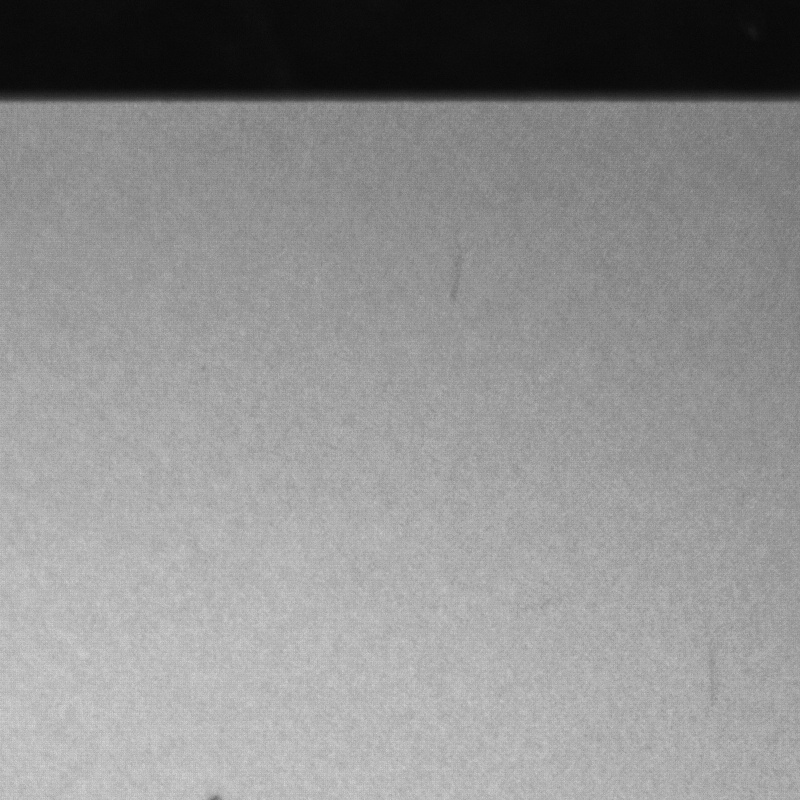defect: (707, 653, 718, 708), (450, 260, 464, 298)
